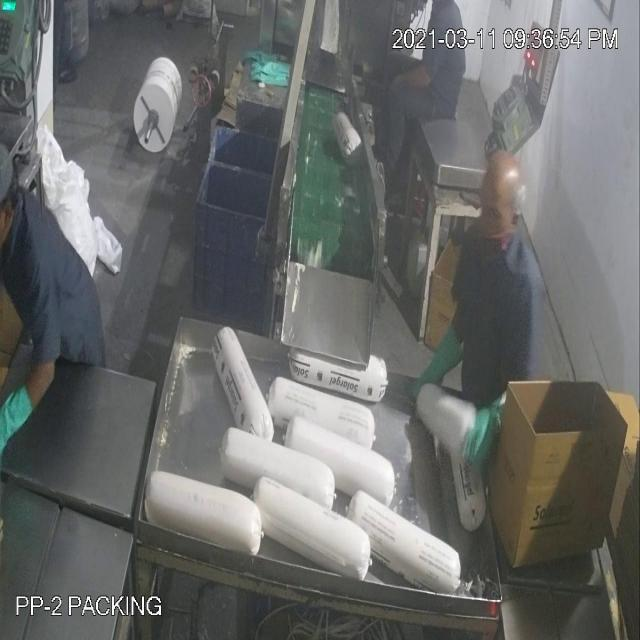Gloves: (462, 390, 518, 468)
